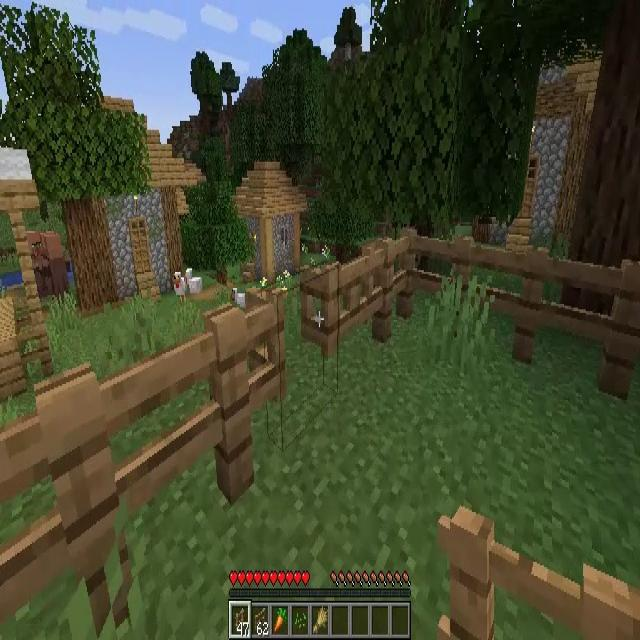duck: (187, 268, 202, 300), (172, 270, 185, 301), (231, 288, 246, 308)
